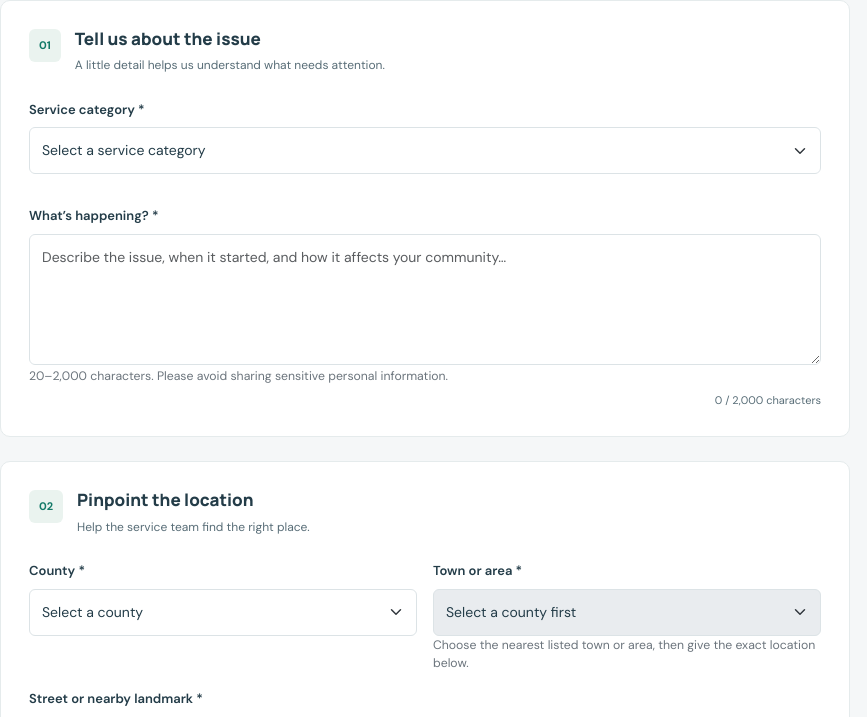
Request form upload feedback › lists all 47 counties and filters towns when the county changes
Expected: the dropdown labelled "Town or area *" is disabled, [433, 589, 821, 636]
Select "Nairobi" in the dropdown labelled "County *" at (223, 612), box [29, 589, 417, 636]
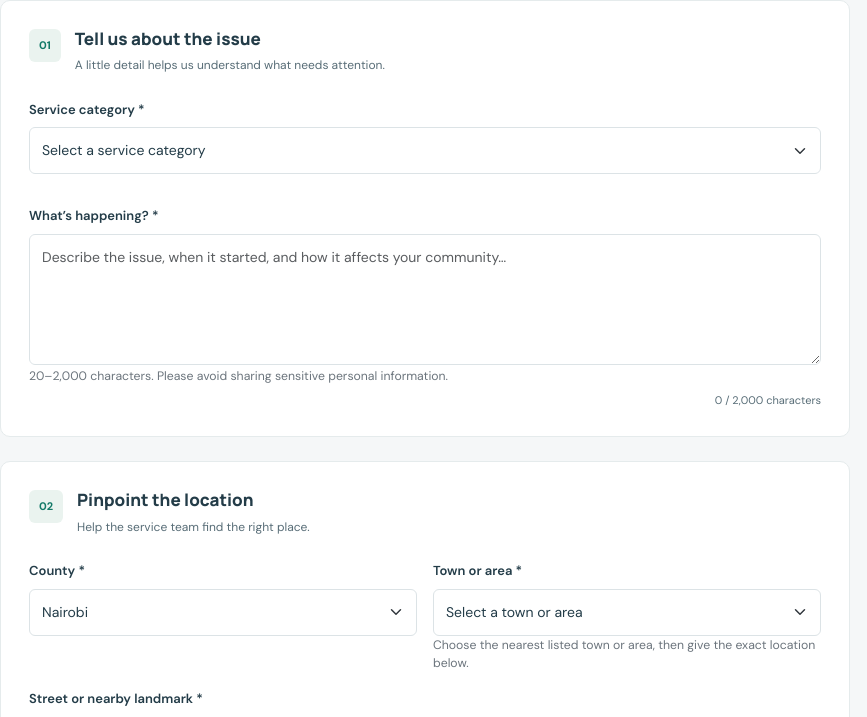
Now the dropdown labelled "Town or area *" is enabled
Select "Kilimani" in the dropdown labelled "Town or area *" at (627, 612), box [433, 589, 821, 636]
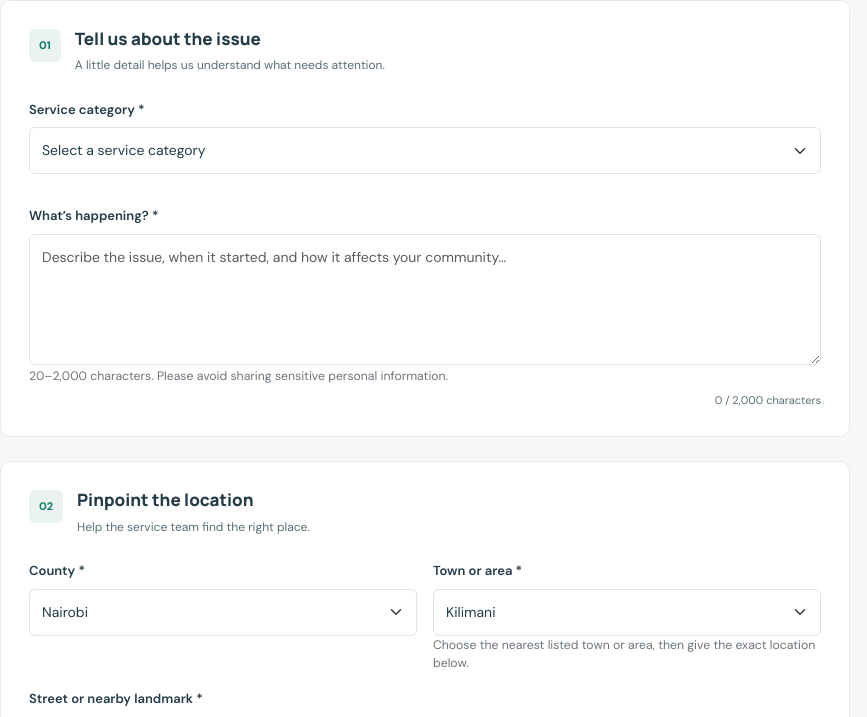
Select "Kiambu" in the dropdown labelled "County *" at (223, 612), box [29, 589, 417, 636]
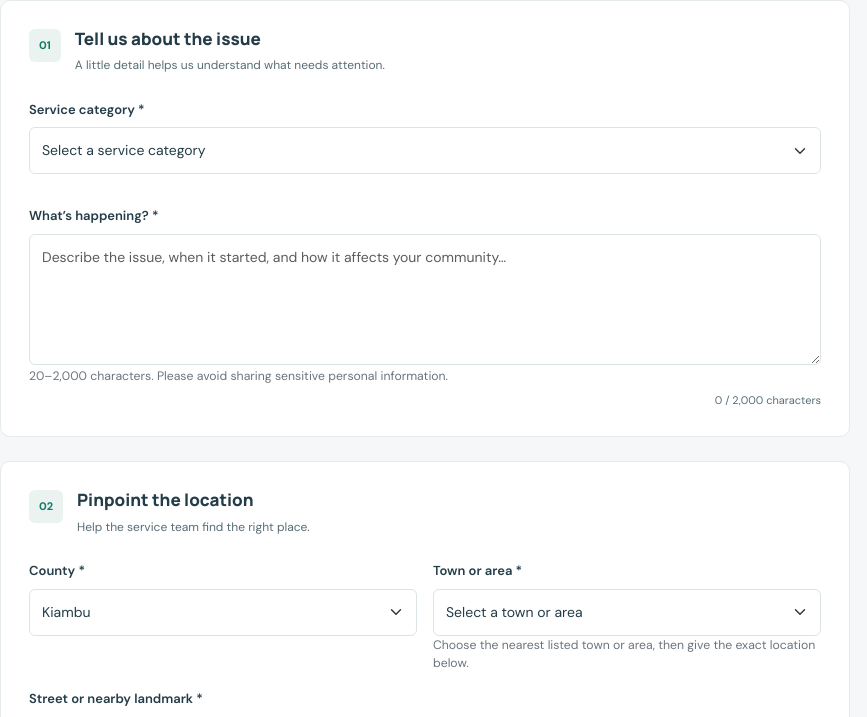
Select "Select a county" in the dropdown labelled "County *" at (223, 612), box [29, 589, 417, 636]
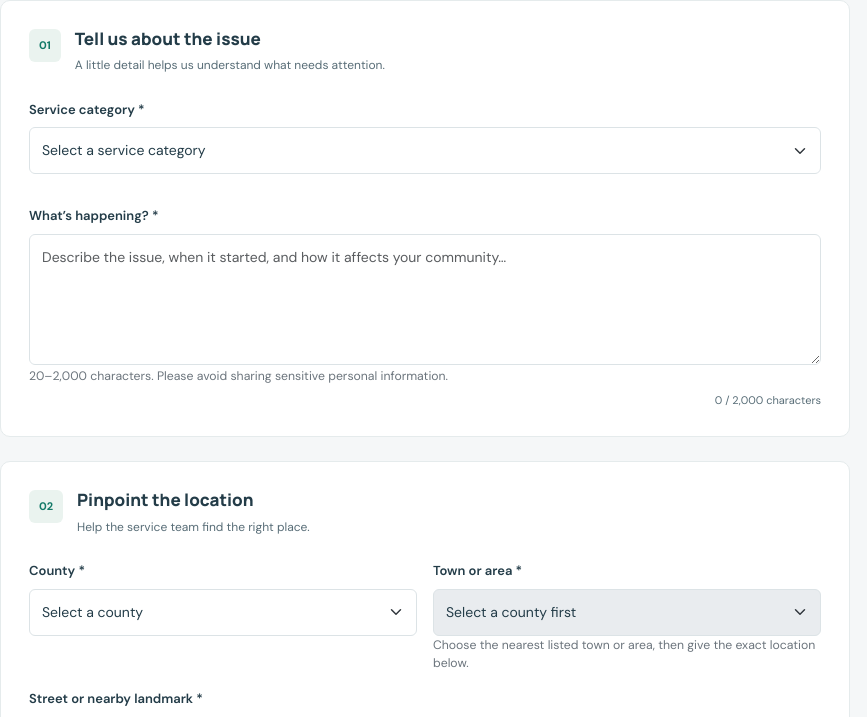
Now the dropdown labelled "Town or area *" is disabled, box [433, 589, 821, 636]
